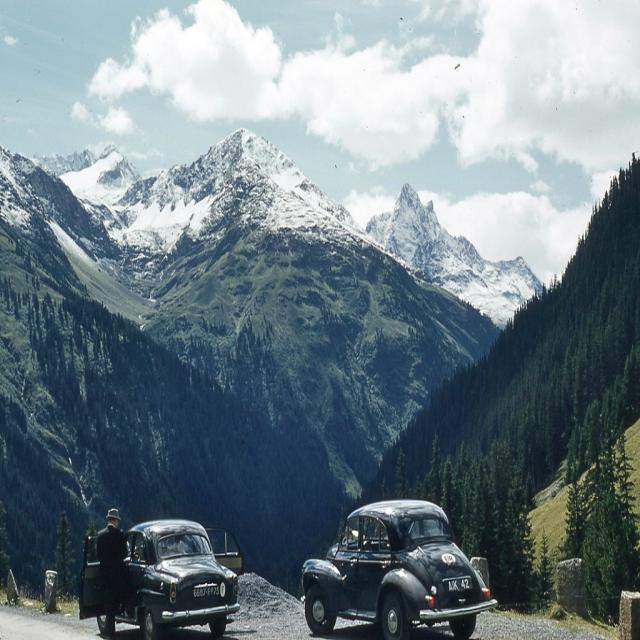other: (296, 504, 495, 640), (79, 518, 244, 639)
